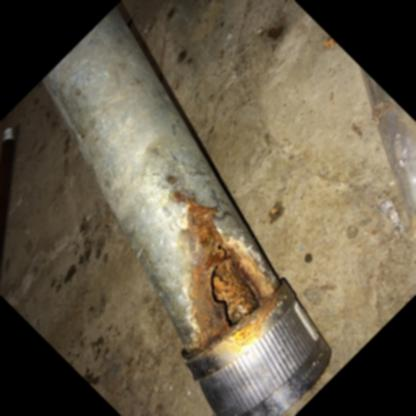burst: (186, 224, 264, 331)
